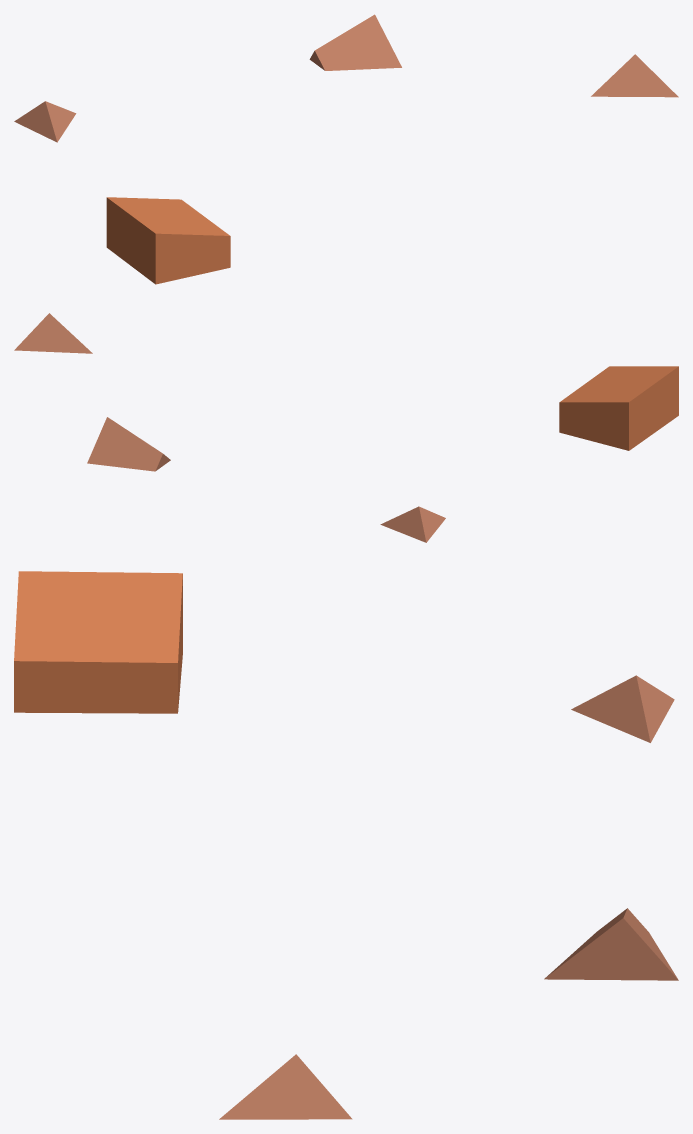
File: Brick_Pile_s_02.fbx
3 views of the same model, one above another, from view 1: azimuth 30°, elevation 25°; view 2: azimuth 150°, elevation 25°; view 3: azimuth 270°, elevation 25° (orthographic). The views are drawn at different scales.
Visible parts, largest first — view 1: Brick_Pile_s_02; view 2: Brick_Pile_s_02; view 3: Brick_Pile_s_02.
Part boxes in pixels (box(x1,y1,x2,y2)): Brick_Pile_s_02: box(14, 14, 678, 284); Brick_Pile_s_02: box(14, 313, 678, 542); Brick_Pile_s_02: box(14, 571, 678, 1119).
Size of the model in its own units: 50.32 by 4.28 by 30.4.
